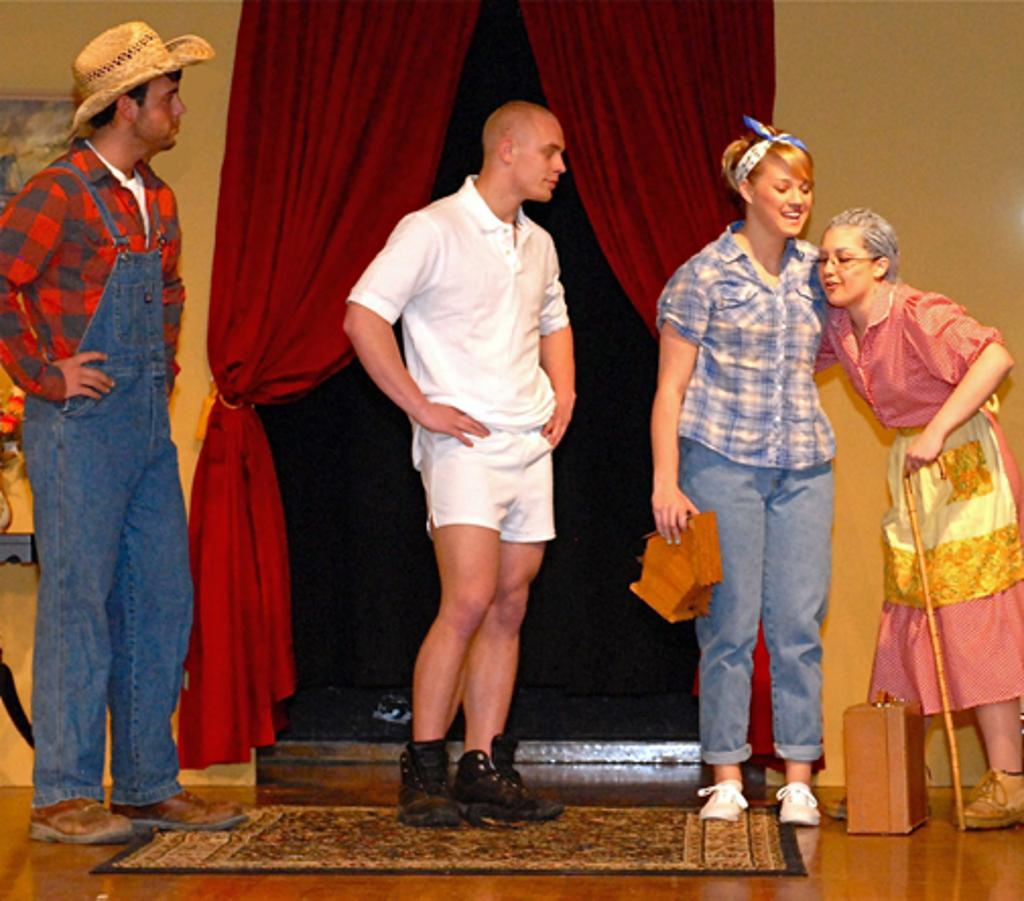face: (817, 225, 872, 307), (754, 158, 812, 234), (512, 121, 566, 202), (132, 71, 186, 150)
